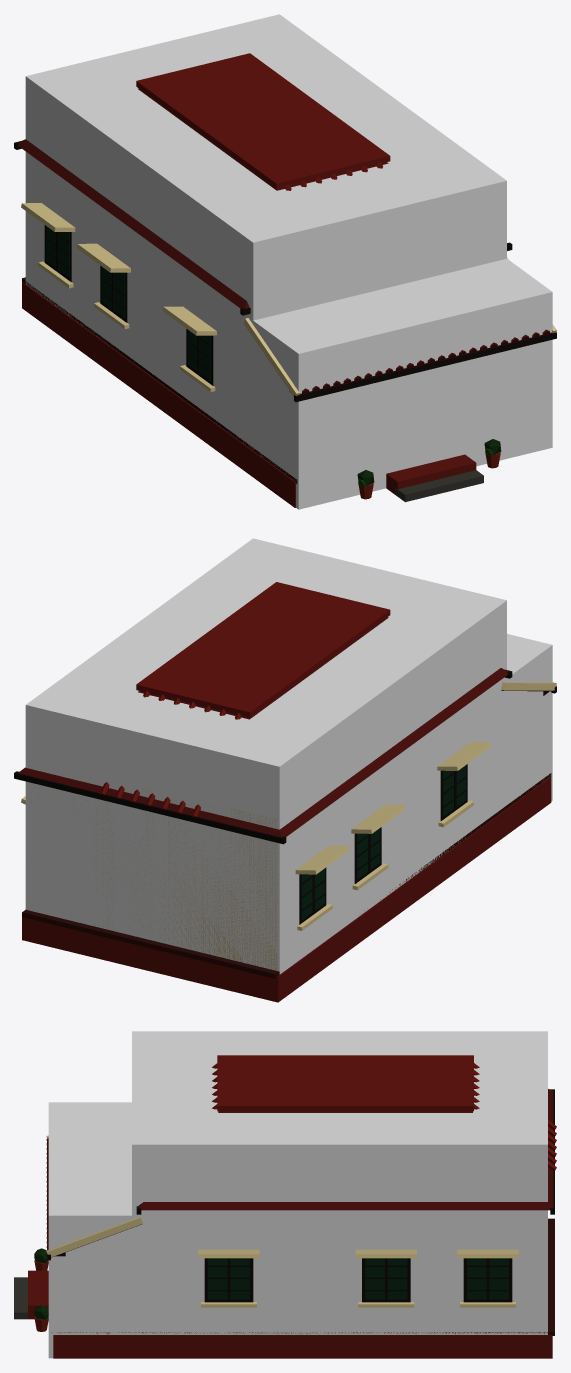
Rendered from CHN_005_tiled_city.glb.
3 views of the same model, one above another, from view 1: azimuth 30°, elevation 25°; view 2: azimuth 150°, elevation 25°; view 3: azimuth 270°, elevation 25° (orthographic). The views are drawn at different scales.
Visible parts, largest first — view 1: COL_Main, COL_Verandah, LOD0; view 2: COL_Main, LOD0, COL_Verandah; view 3: COL_Main, LOD0, COL_Verandah.
Part boxes in pixels (bbox=[...]): COL_Main: bbox=[25, 14, 506, 448]; COL_Verandah: bbox=[248, 259, 552, 509]; LOD0: bbox=[14, 53, 556, 507]; COL_Main: bbox=[25, 538, 506, 974]; LOD0: bbox=[14, 582, 556, 1002]; COL_Verandah: bbox=[502, 634, 552, 808]; COL_Main: bbox=[132, 1031, 547, 1334]; LOD0: bbox=[14, 1055, 556, 1358]; COL_Verandah: bbox=[48, 1102, 141, 1358].
Size of what is drawn, in the model's own units: 6.75 by 5.27 by 11.74.
